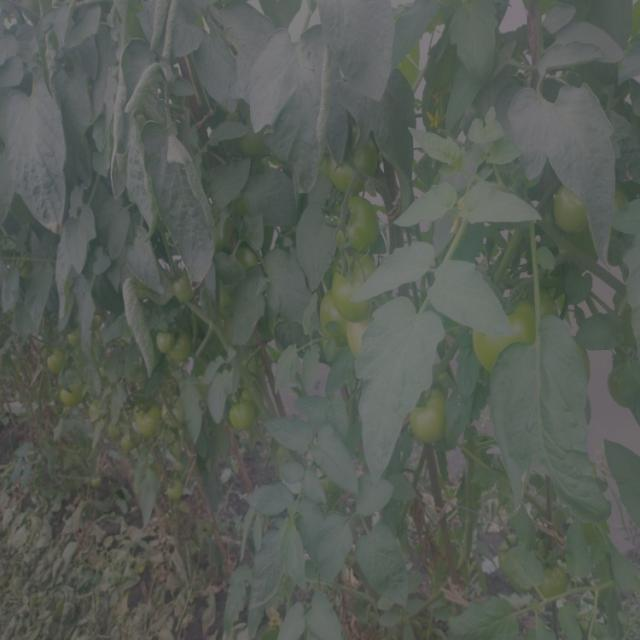tomato: (477, 304, 549, 368), (224, 100, 273, 166), (330, 135, 385, 191), (328, 199, 384, 253), (330, 257, 382, 313), (408, 397, 453, 449), (322, 316, 379, 356), (556, 184, 595, 236), (528, 557, 575, 596), (154, 329, 195, 363), (225, 402, 262, 431), (163, 397, 198, 427), (129, 405, 157, 435), (62, 377, 85, 406), (174, 273, 193, 305), (67, 325, 92, 347), (235, 246, 257, 270), (48, 354, 78, 371), (94, 399, 112, 422), (164, 476, 183, 493), (111, 427, 126, 441)
